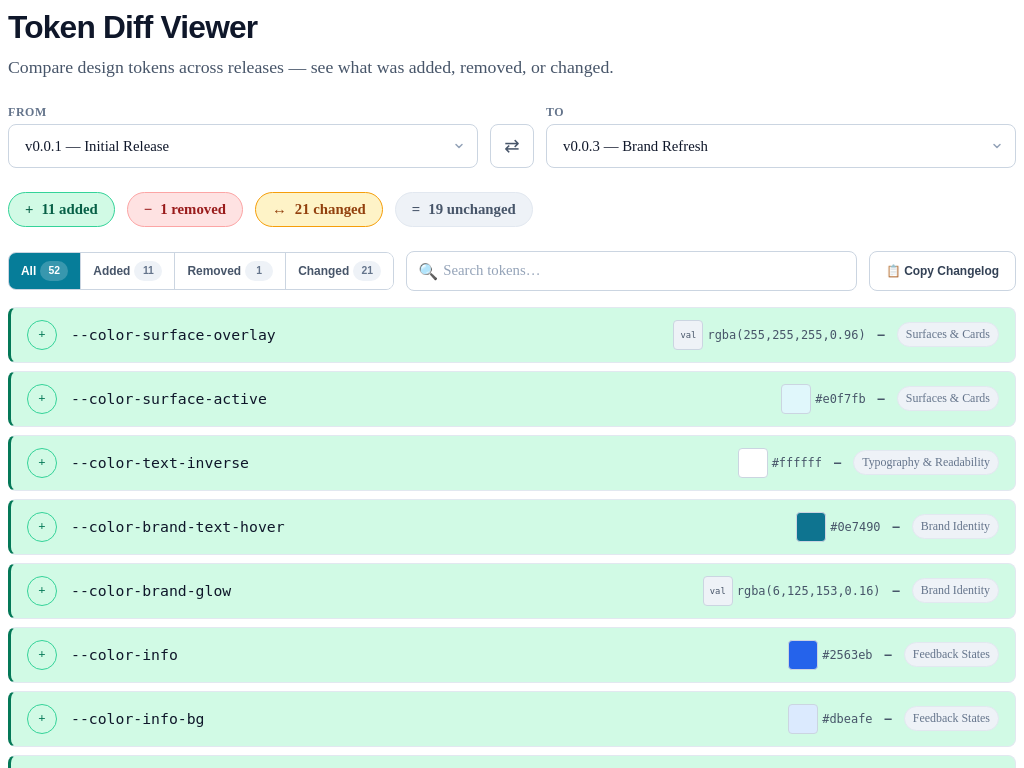
TokenDiffViewer — version selection › clearing a version shows "Select Two Versions" message
Clear From by selecting the empty option
Select "Select version…" in the dropdown named "Baseline version" at (243, 146), box x1=8 y1=124 x2=478 y2=168
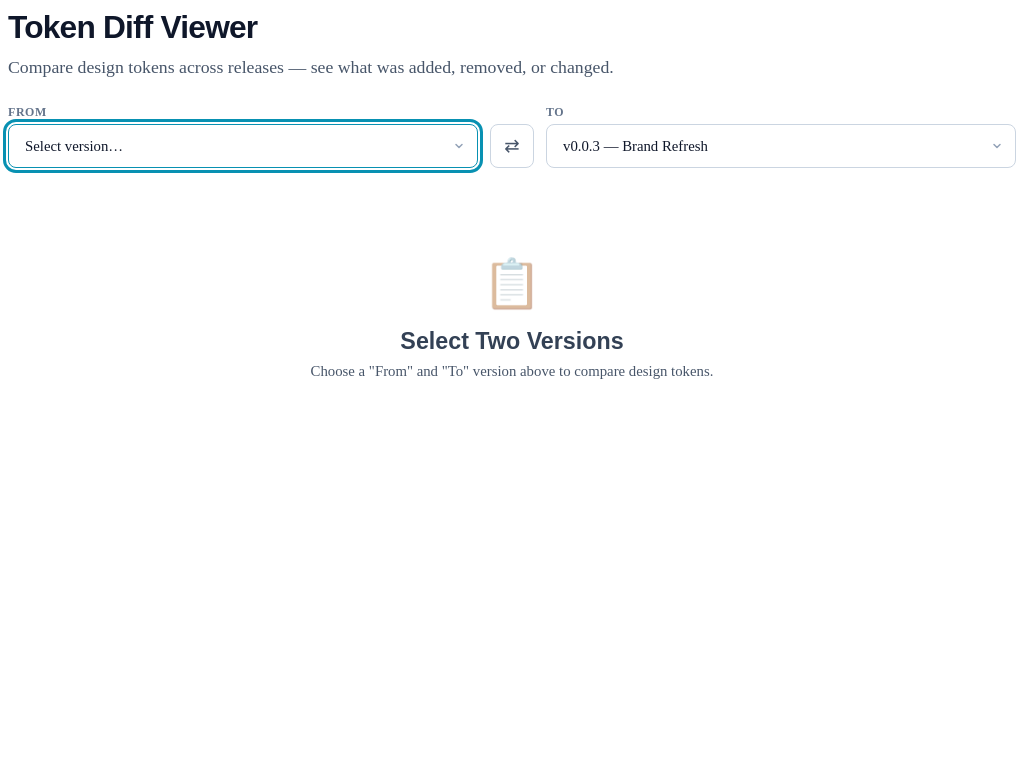
Expected: the heading "Select Two Versions" is shown, x1=400 y1=328 x2=624 y2=355
